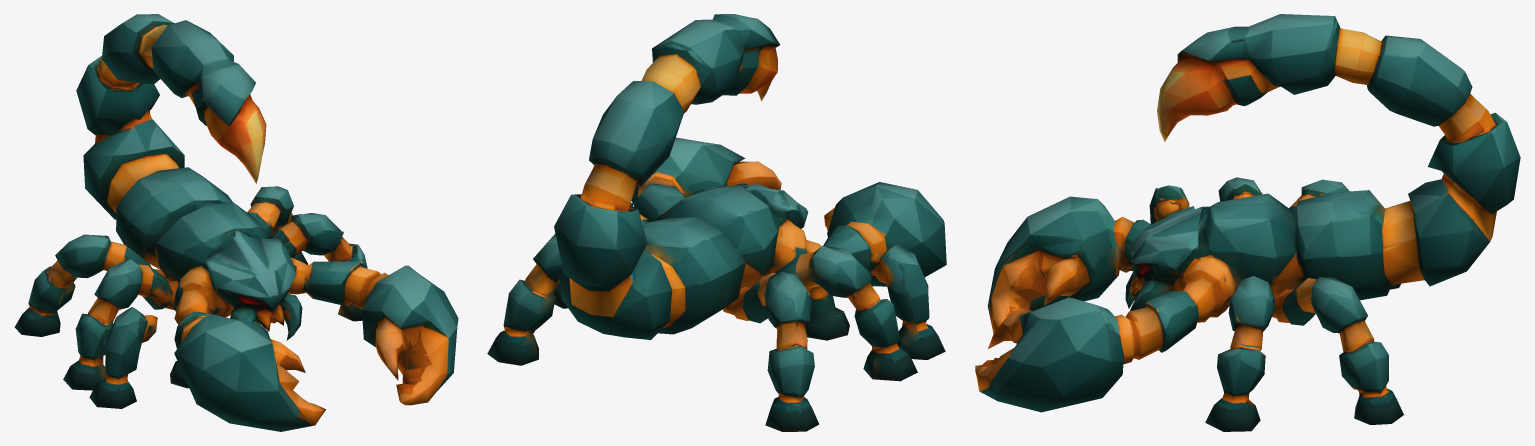
File: akrep.glb
The picture shows the model from 3 angles, left to right: view 1: azimuth 30°, elevation 25°; view 2: azimuth 150°, elevation 25°; view 3: azimuth 270°, elevation 25°; orthographic projection. The views are drawn at different scales.
Visible parts, largest first — view 1: material; view 2: material; view 3: material.
Part boxes in pixels (bbox=[...]): material: bbox=[14, 14, 458, 431]; material: bbox=[487, 14, 946, 431]; material: bbox=[975, 14, 1520, 431].
Size of the model in its own units: 1.43 by 1.26 by 1.9.
1 material, 1 textured.
